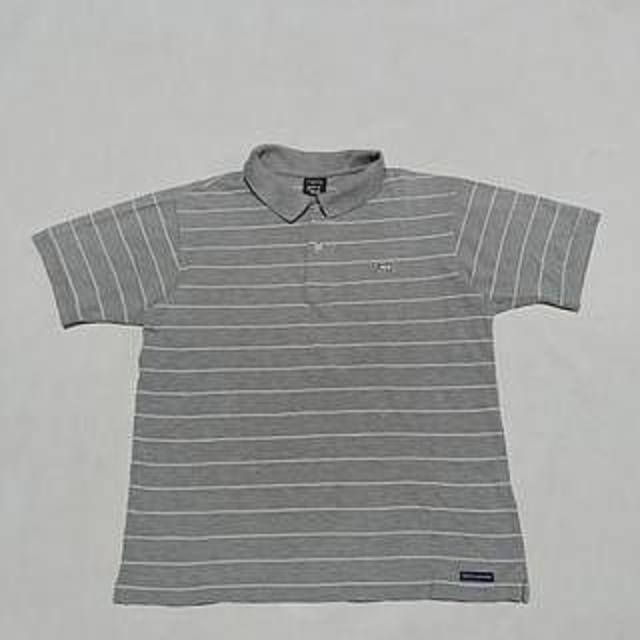T_SHIRT: (23, 135, 612, 610)
